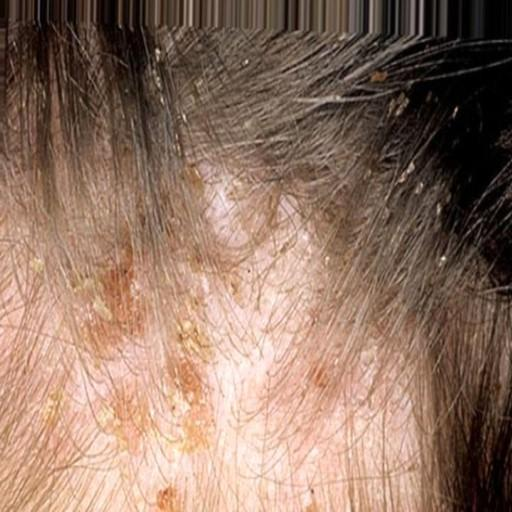Head_Lice: (146, 80, 174, 114), (429, 199, 454, 235), (383, 96, 416, 118), (400, 155, 422, 182), (380, 205, 398, 235), (152, 50, 174, 70), (363, 69, 397, 81), (436, 249, 454, 270), (449, 103, 464, 121)
